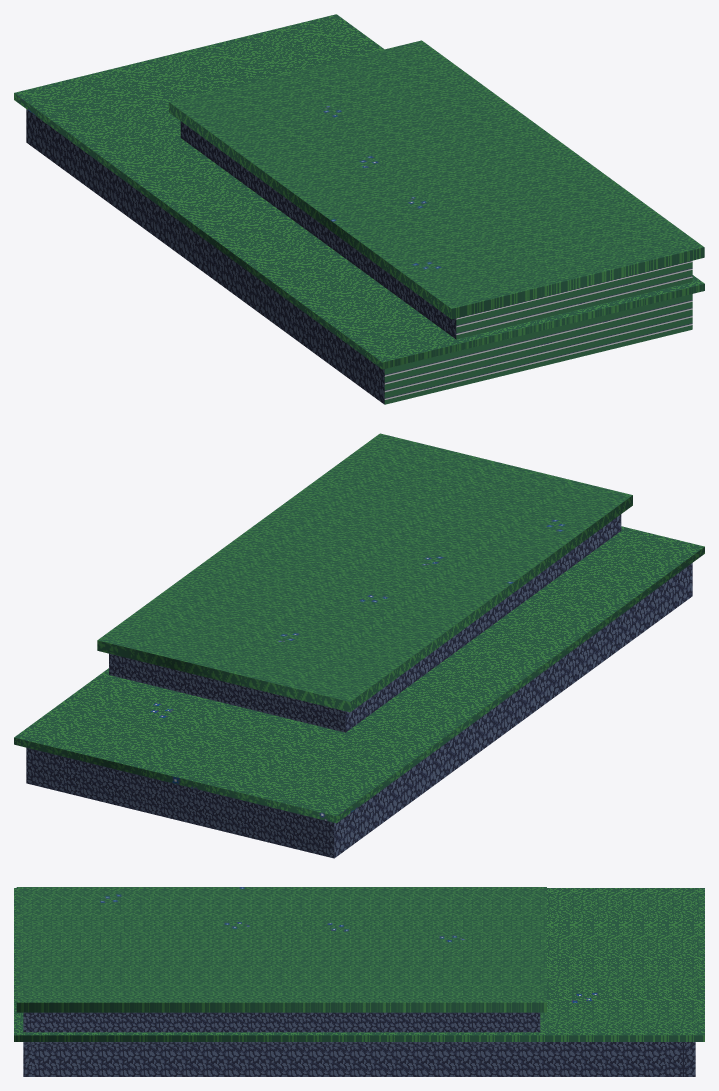
Rendered from Chao4.fbx.
3 views of the same model, one above another, from view 1: azimuth 30°, elevation 25°; view 2: azimuth 150°, elevation 25°; view 3: azimuth 270°, elevation 25° (orthographic). The views are drawn at different scales.
Parts seen in each view (by area): view 1: Chao4; view 2: Chao4; view 3: Chao4.
Part boxes in pixels (left/top/right/bottom): Chao4: left=14, top=14, right=704, bottom=404; Chao4: left=14, top=433, right=704, bottom=858; Chao4: left=14, top=887, right=704, bottom=1076.
Size of the model in its own units: 4352 by 8582 by 1066.
